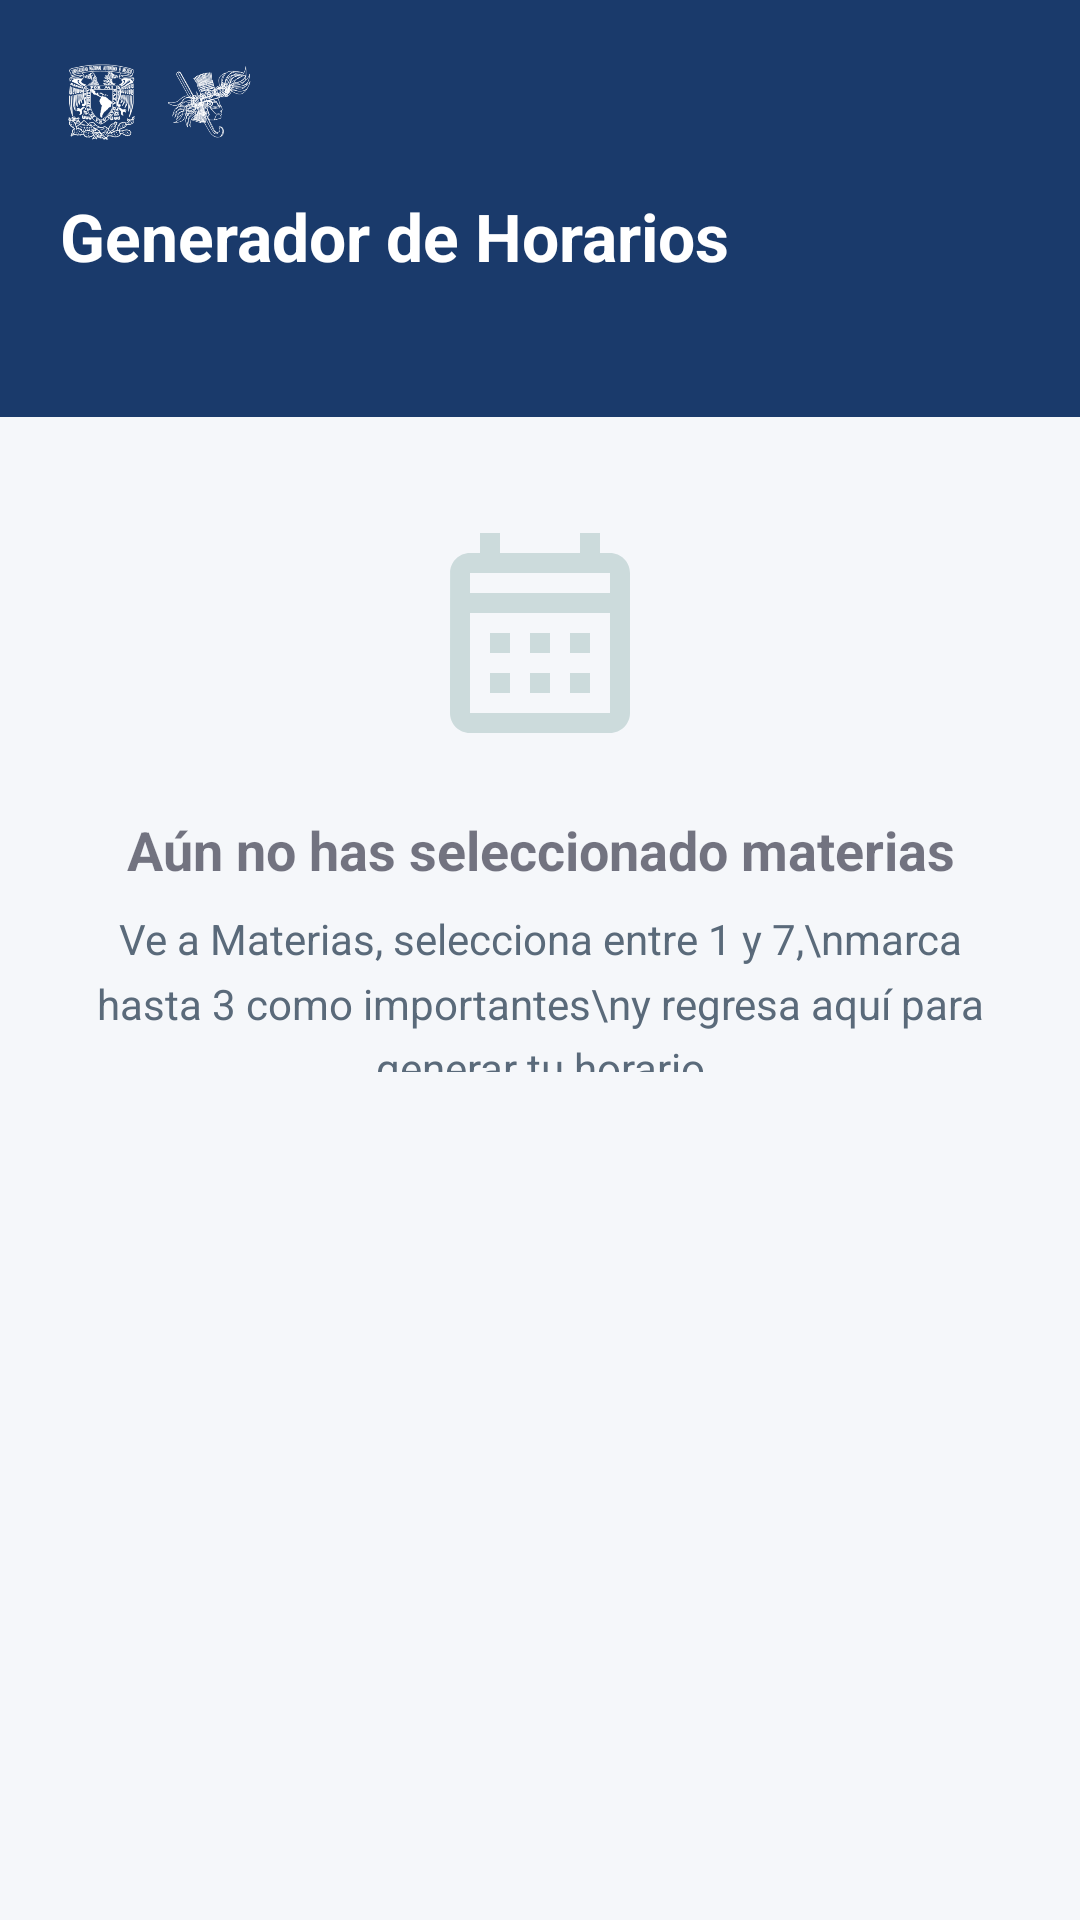

Locate icon controls on the screen. Image size 1080x1920, boxes as Rect(x1, y1, x2, y2).
Horario: Rect(450, 533, 630, 733)
